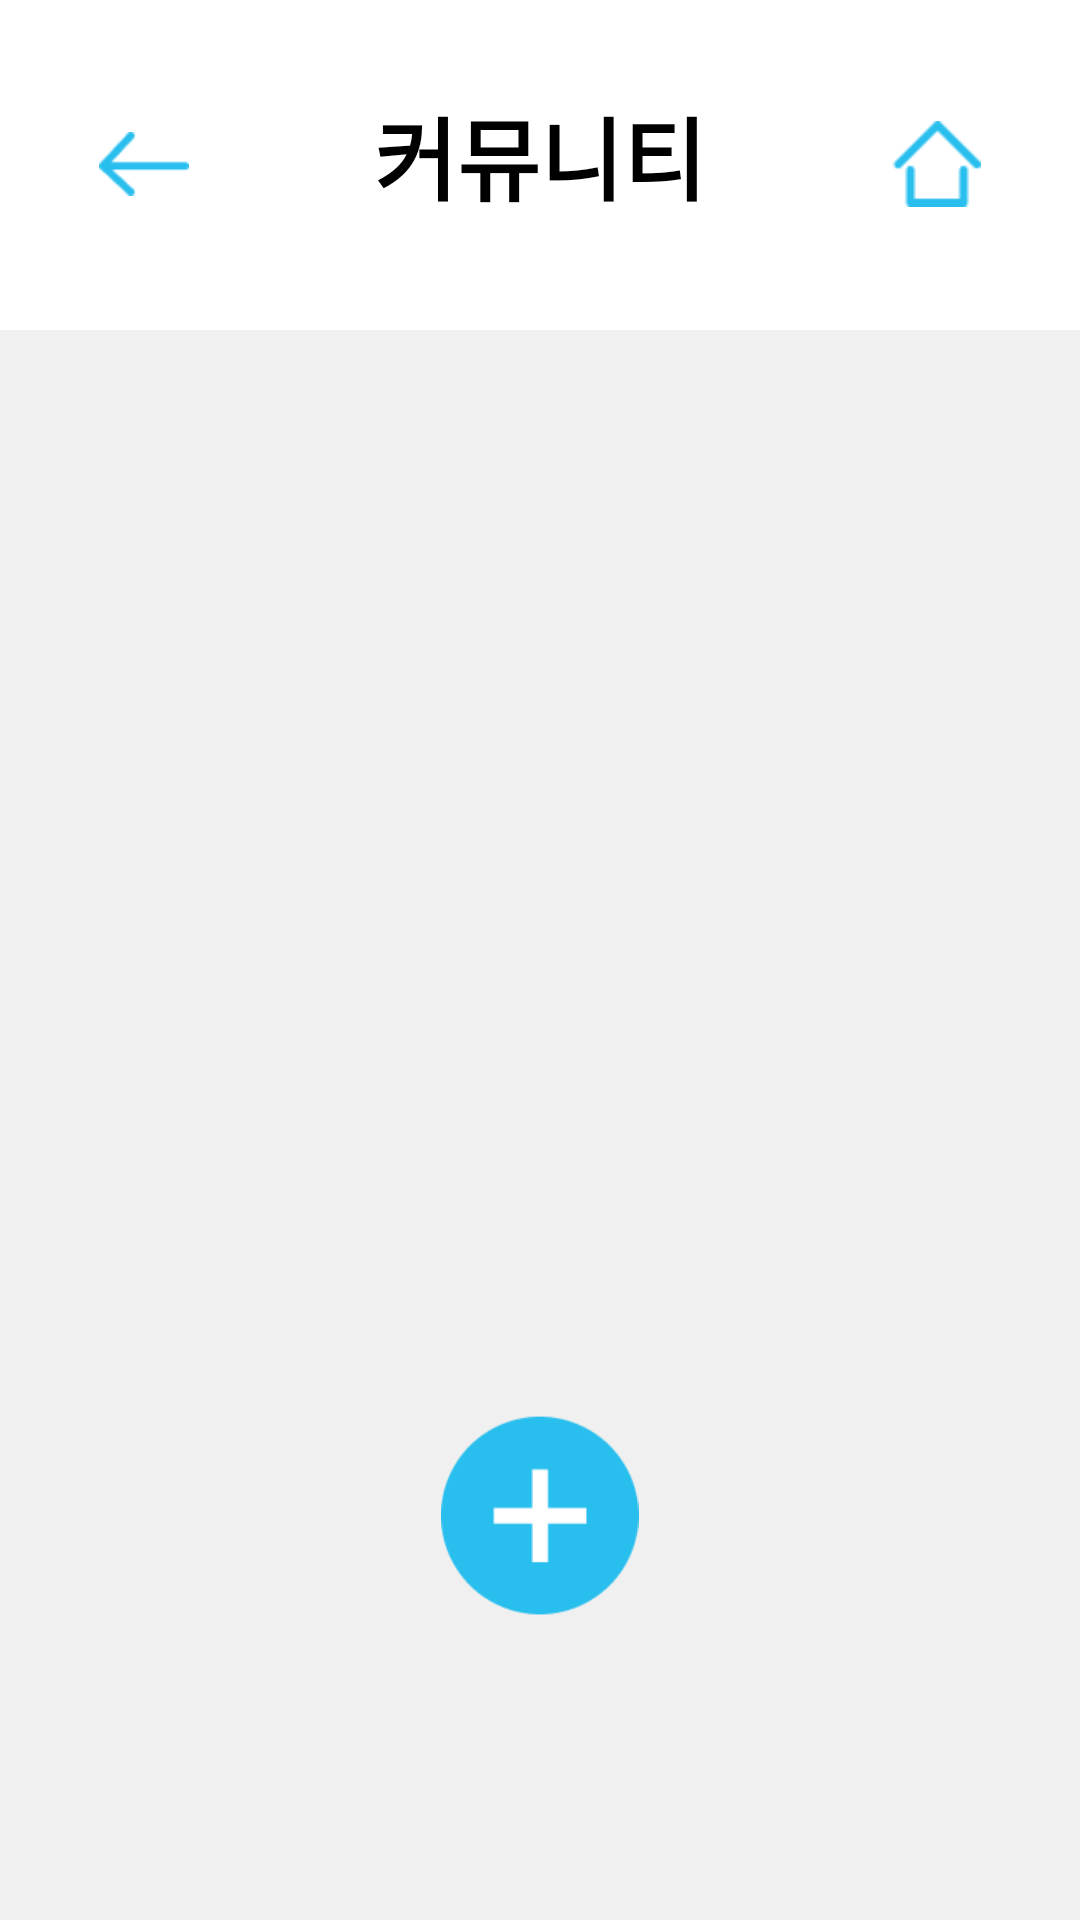

Screen size 1080w x 1920h. Icon name, then its box in pixels as (x1, y1, x2, y2):
backbtn: (99, 132, 189, 196)
homebtn: (893, 121, 981, 207)
plusbtn: (441, 1416, 639, 1615)
